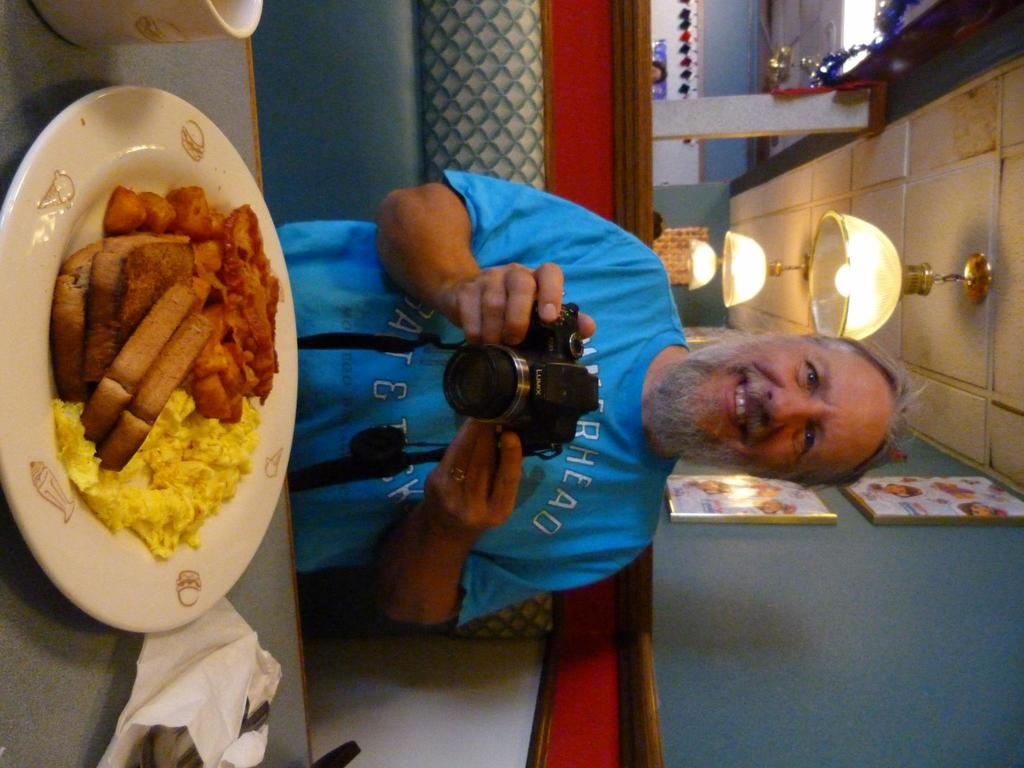French fries: (63, 171, 288, 433)
